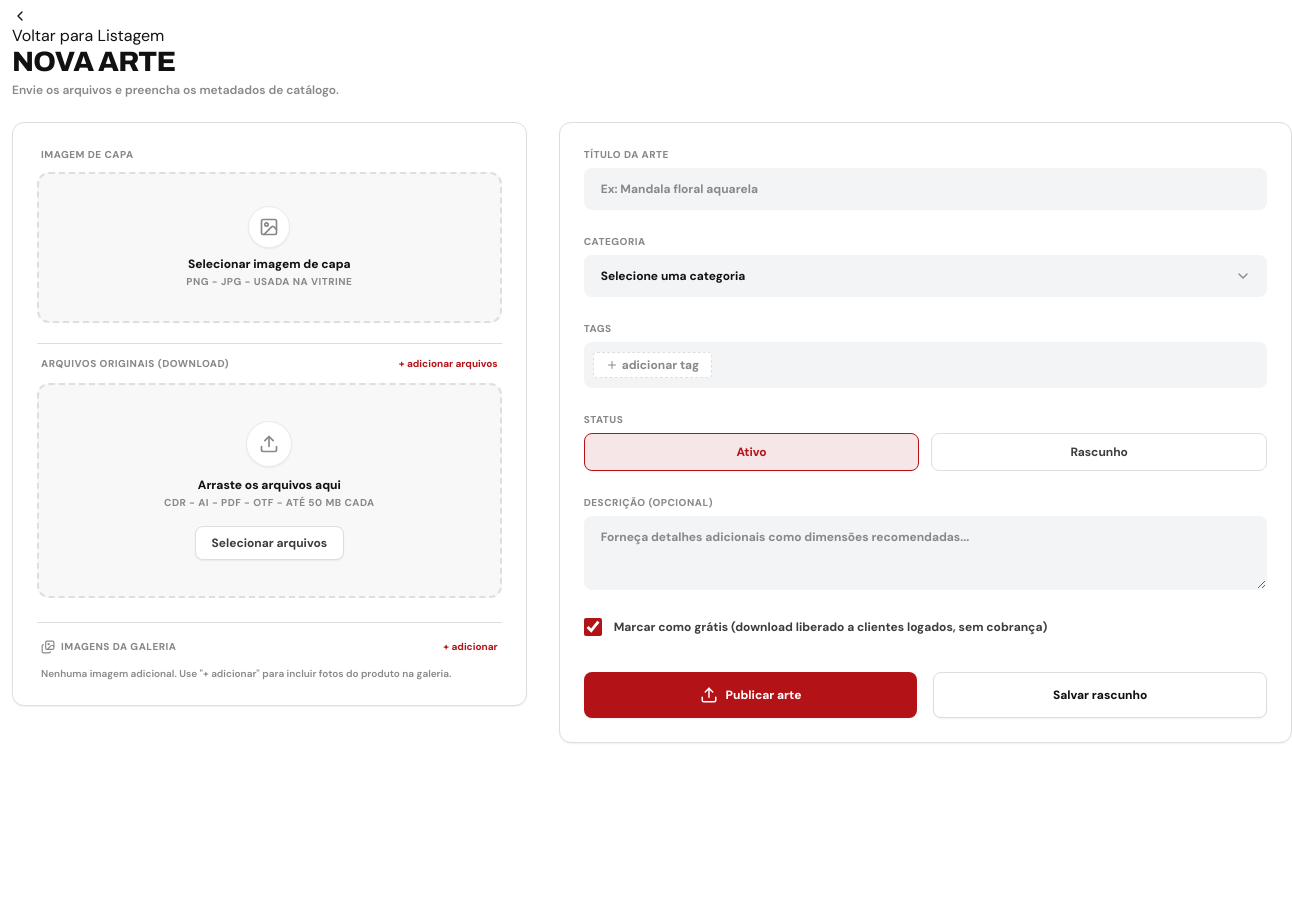
Test: ArtworkFormNks - Gerenciamento de Tags › abre dropdown com lista de tags cadastradas ao clicar em adicionar tag
Click the button "adicionar tag". click: (652, 365)
box: [593,352,712,378]
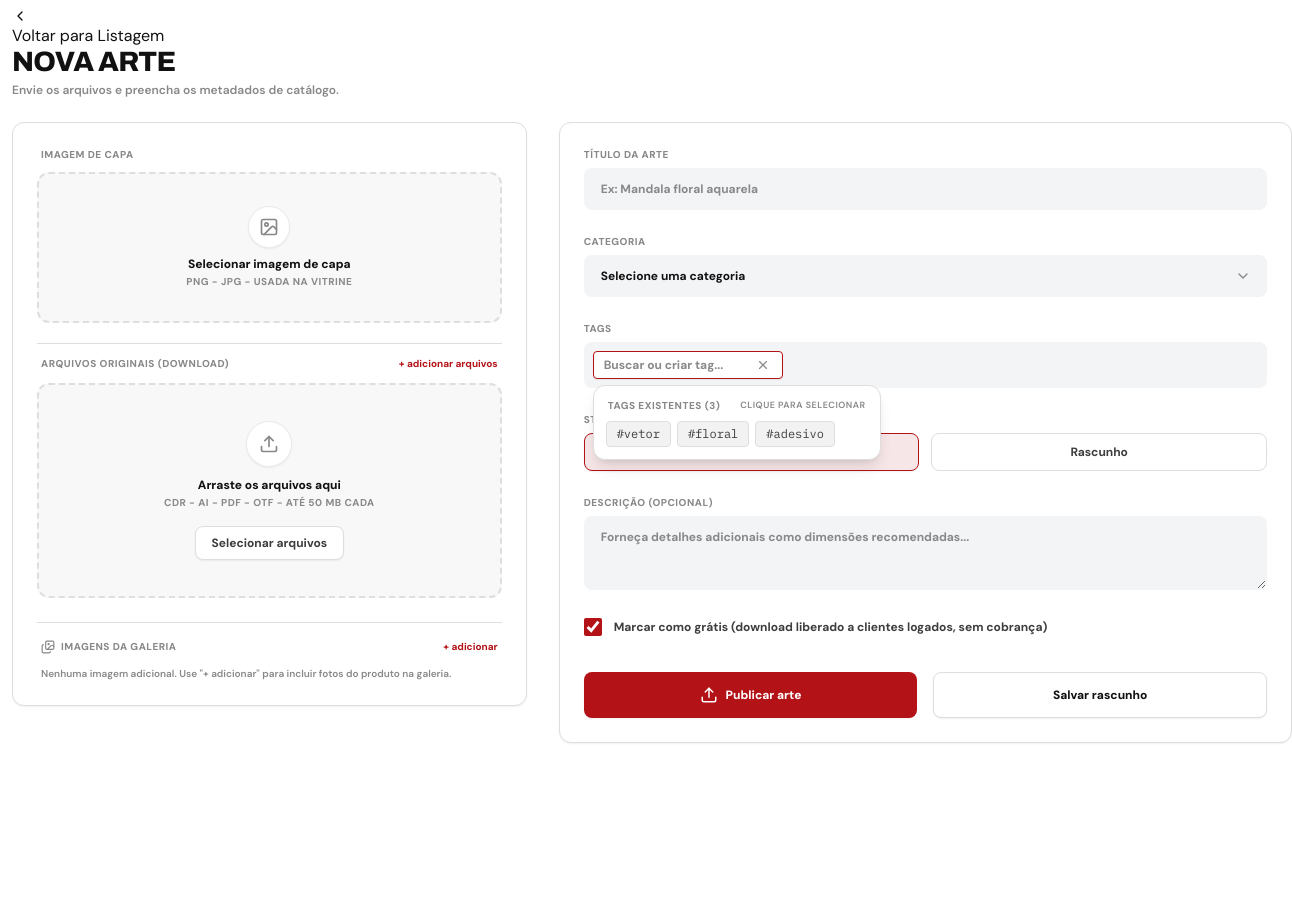
Expected: the button "#vetor" is shown, [606,421,671,447]
Expected: the button "#floral" is shown, [677,421,749,447]
Expected: the button "#adesivo" is shown, [755,421,835,447]
